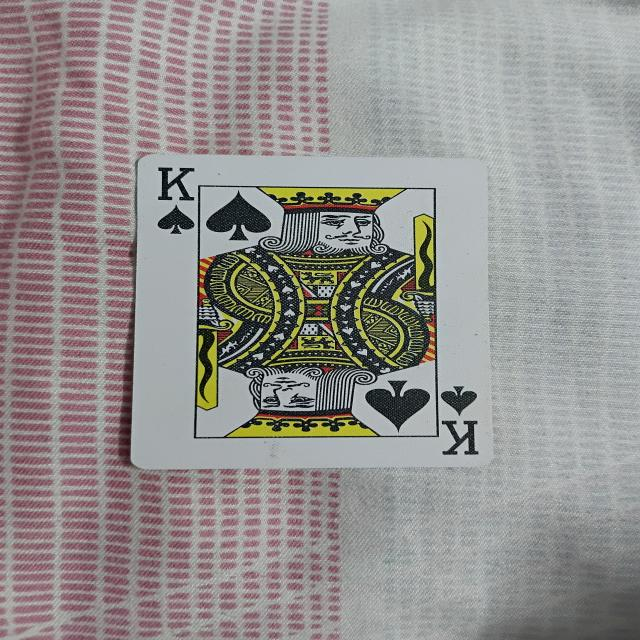KS: (142, 152, 488, 468)
